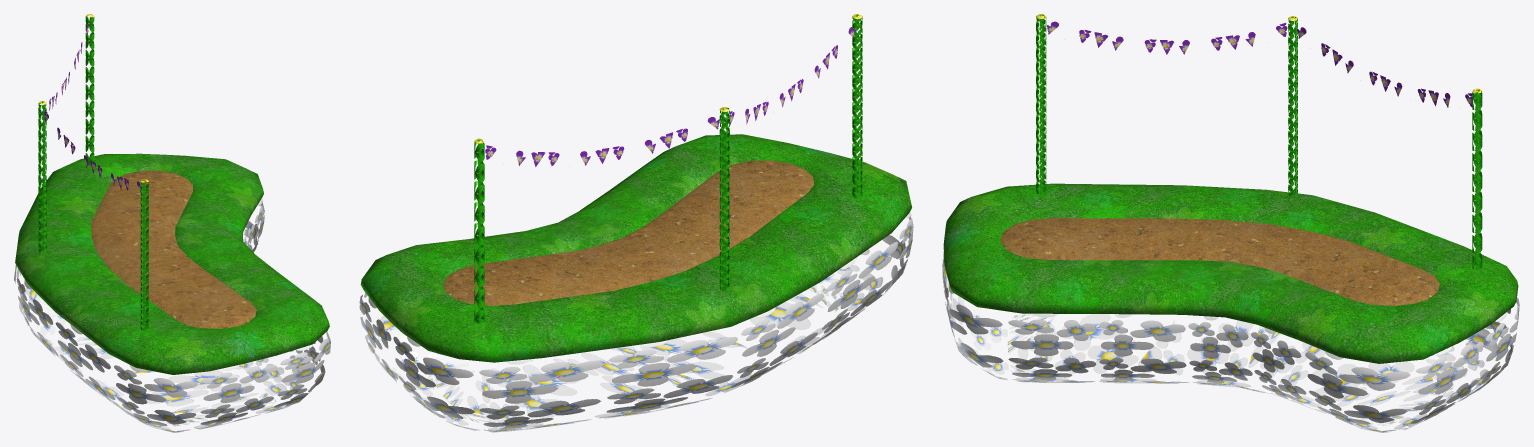
File: HikeGardenFooStepA.fbx
The picture shows the model from 3 angles, left to right: view 1: azimuth 30°, elevation 25°; view 2: azimuth 150°, elevation 25°; view 3: azimuth 270°, elevation 25°; orthographic projection. The views are drawn at different scales.
Parts seen in each view (by area): view 1: HikeGardenFooStepA; view 2: HikeGardenFooStepA; view 3: HikeGardenFooStepA.
Part boxes in pixels (<box>): HikeGardenFooStepA: <box>14,14,330,432</box>; HikeGardenFooStepA: <box>359,14,913,432</box>; HikeGardenFooStepA: <box>942,14,1519,432</box>.
Bounding box in the file's own units: 148072 × 117642 × 213212.
